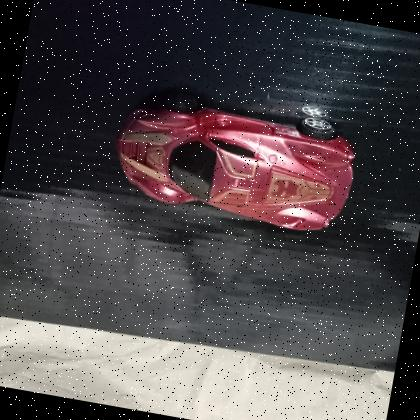Car: (100, 71, 370, 248)
